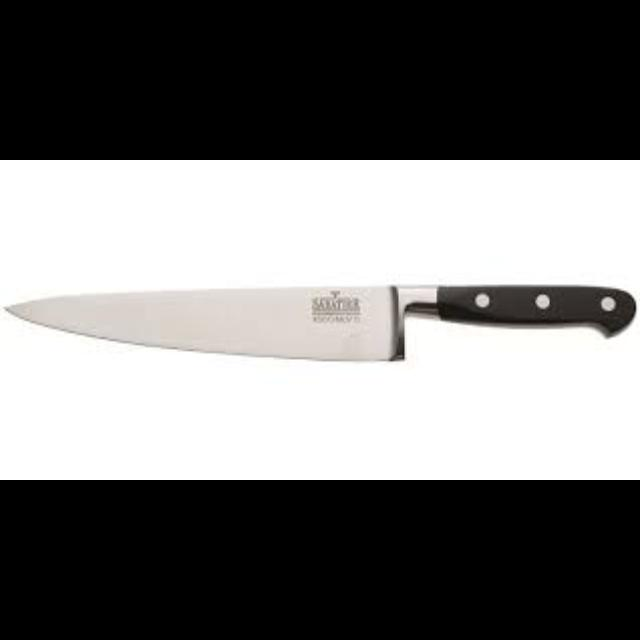Knife: (2, 283, 636, 361)
